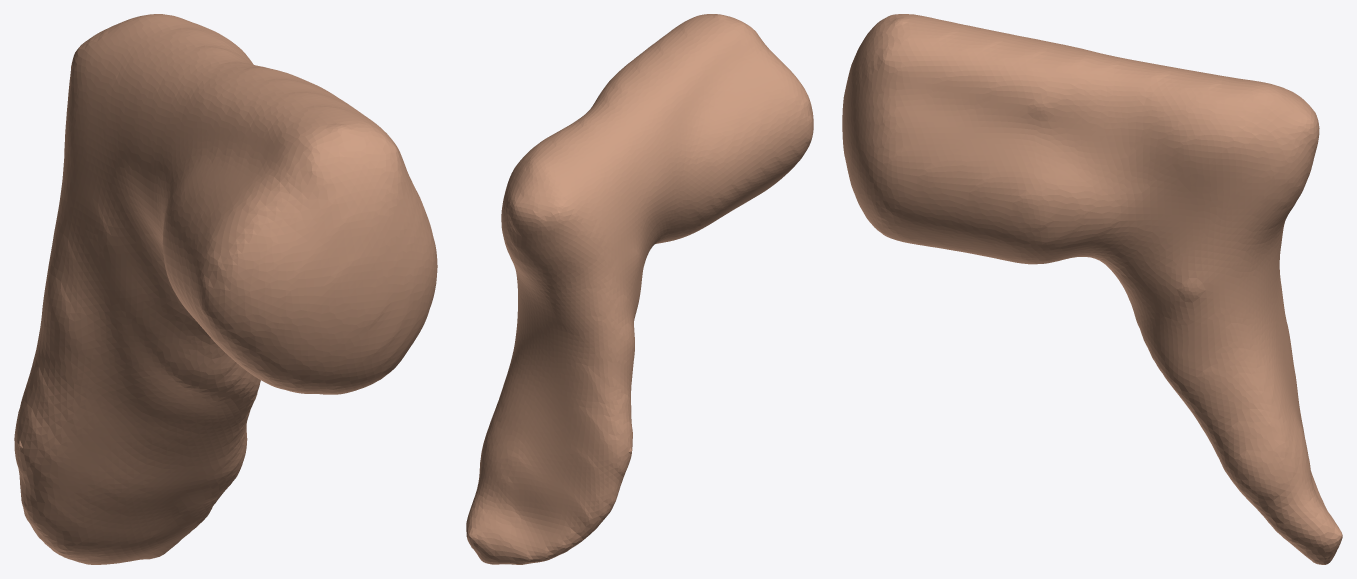
Rendered from foot_skin.glb.
3 views of the same model, side by side, from view 1: azimuth 30°, elevation 25°; view 2: azimuth 150°, elevation 25°; view 3: azimuth 270°, elevation 25° (orthographic). The views are drawn at different scales.
Visible parts, largest first — view 1: world; view 2: world; view 3: world.
Boxes of the visible parts, <box> form: world: <box>14,14,437,564</box>; world: <box>466,14,813,564</box>; world: <box>842,14,1342,564</box>.
Bounding box in the file's own units: 98.9 × 233 × 206.
